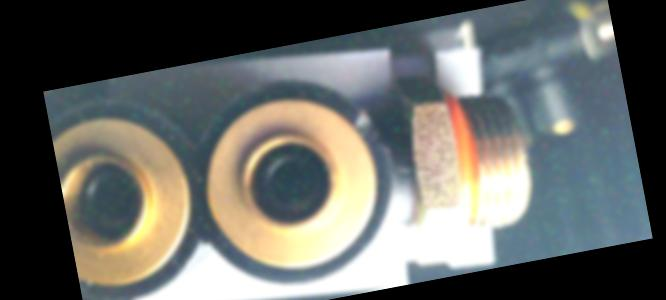bump: (348, 101, 391, 158)
white mark: (394, 162, 417, 182)
